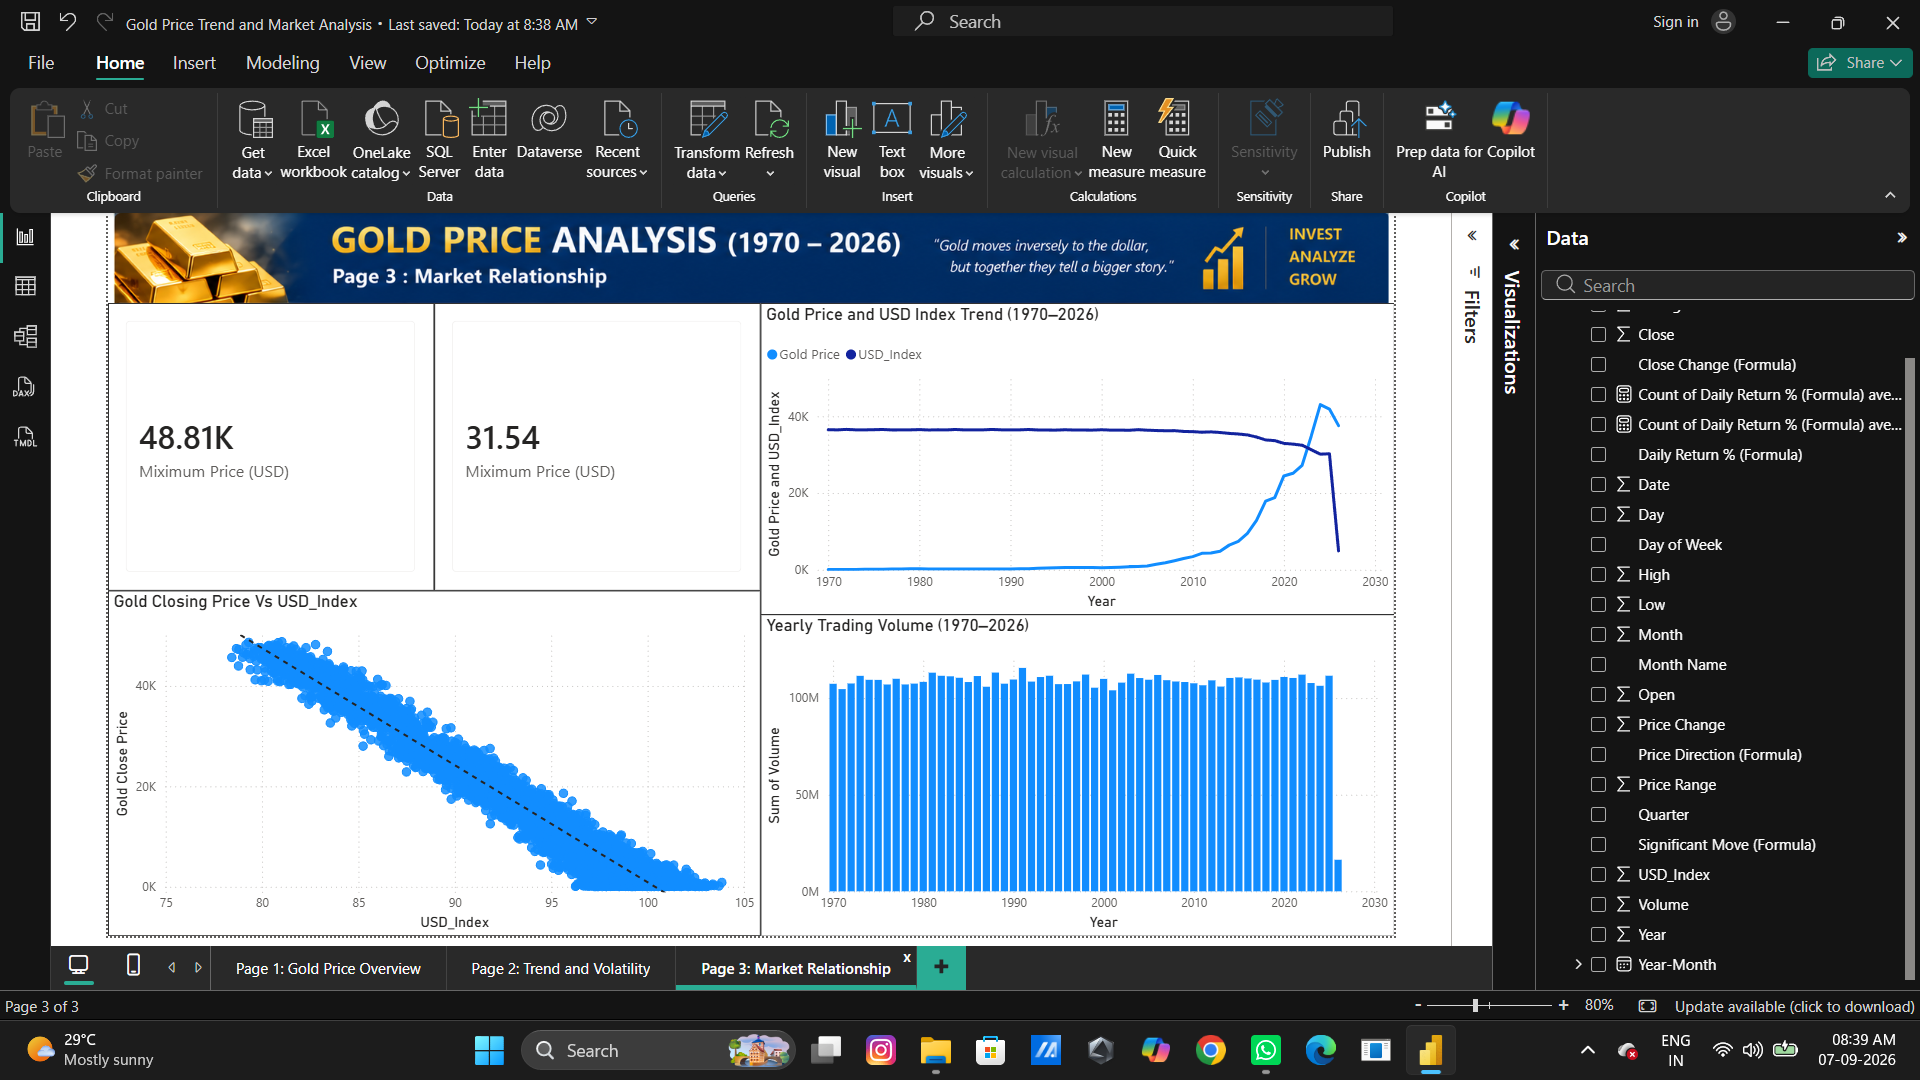

The page's visual inventory and layout, read from the dashboard file:
{"tool":"powerbi","page":{"name":"Page 3: Market Relationship","canvas":[1280,720],"ordinal":2},"visuals":[{"type":"image","box":[0,0,1280,89.6],"z":0},{"type":"cardVisual","fields":{"Data":["Max(Cleaned Data.Close)"]},"box":[0,89.4,324.7,286.5],"z":1000},{"type":"cardVisual","fields":{"Data":["Min(Cleaned Data.Close)"]},"box":[324.7,89.4,324.7,286.5],"z":2000},{"type":"scatterChart","title":"Gold Closing Price Vs USD_Index","fields":{"X":["Cleaned Data.USD_Index"],"Y":["Cleaned Data.Close"]},"box":[0,375.9,649.3,344.4],"z":2001},{"type":"lineChart","title":"Gold Price and USD Index Trend (1970–2026)","fields":{"Category":["Cleaned Data.Year"],"Y":["Avg(Cleaned Data.Close)","Sum(Cleaned Data.USD_Index)"]},"box":[649.3,89.4,630.9,310.2],"z":2002},{"type":"clusteredColumnChart","title":"Yearly Trading Volume (1970–2026)","fields":{"Category":["Cleaned Data.Year"],"Y":["Sum(Cleaned Data.Volume)"]},"box":[649.3,399.6,630.9,320.7],"z":2003}]}

Visuals, with their boxes on the page's 1280x720 design canvas (x1, y1, x2, y2). These are canvas units, not pixel positions in the 1920x1080 screenshot, which may show the page scaled, cropped or inside an application window:
image: bbox(0, 0, 1280, 90)
cardVisual - Max(Cleaned Data.Close): bbox(0, 89, 325, 376)
cardVisual - Min(Cleaned Data.Close): bbox(325, 89, 649, 376)
"Gold Closing Price Vs USD_Index" scatterChart: bbox(0, 376, 649, 720)
"Gold Price and USD Index Trend (1970–2026)" lineChart: bbox(649, 89, 1280, 400)
"Yearly Trading Volume (1970–2026)" clusteredColumnChart: bbox(649, 400, 1280, 720)
